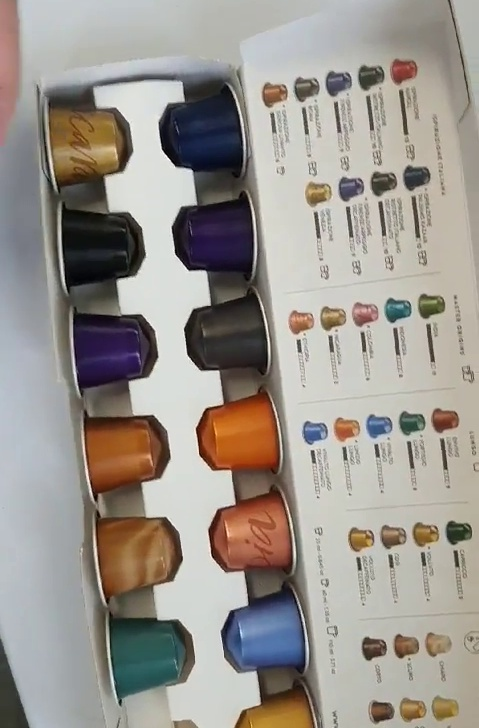capsule_2: (175, 186, 261, 287)
